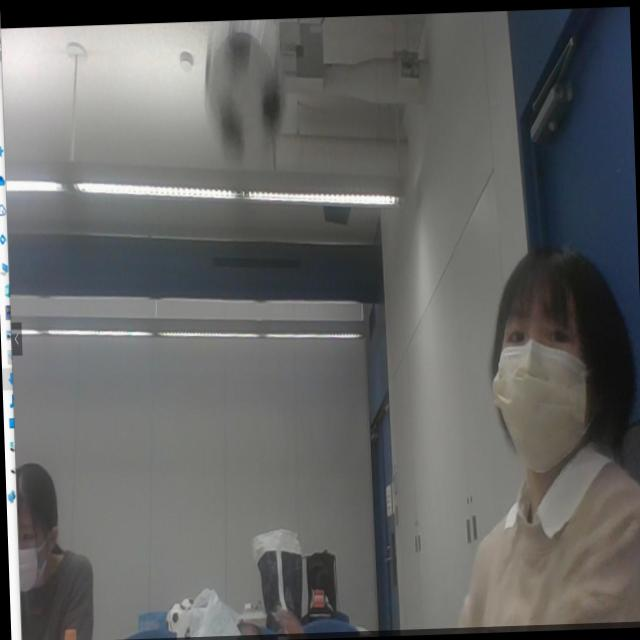Soccer Ball: (206, 33, 283, 158)
